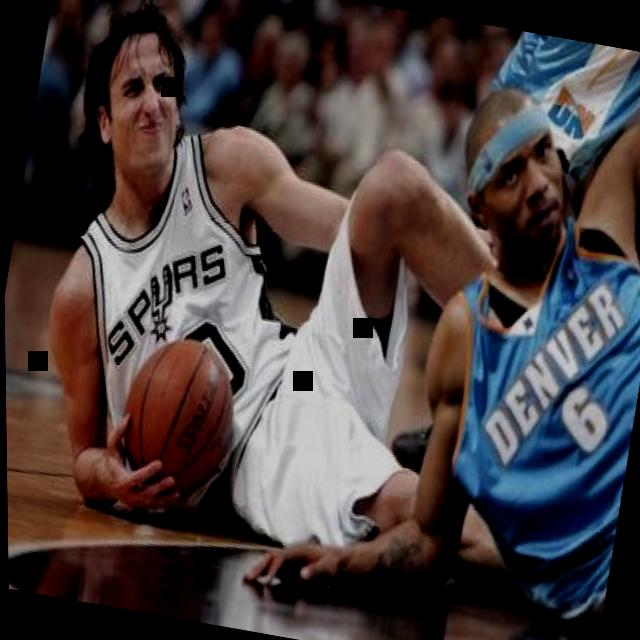Fall-Detected: (356, 59, 640, 637)
